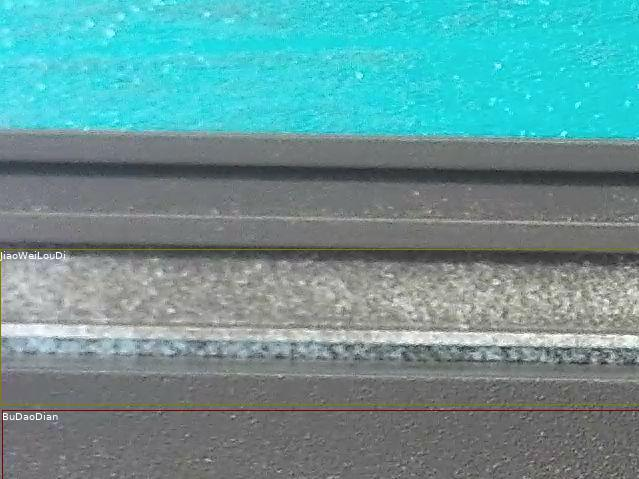BuDaoDian: (2, 410, 639, 479)
JiaoWeiLouDi: (0, 249, 639, 404)
